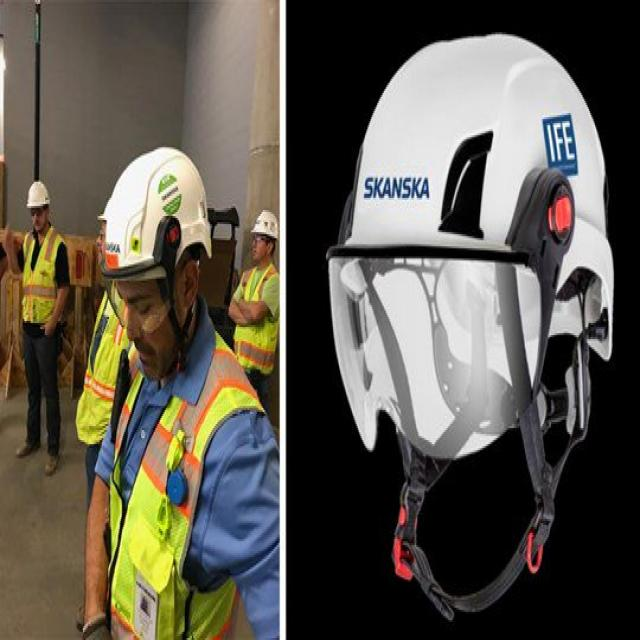Reflective-Jacket: (106, 337, 266, 640), (72, 275, 138, 463), (232, 258, 280, 378), (20, 226, 65, 327)
Safety-Helmet: (327, 28, 624, 299), (96, 139, 216, 287), (250, 206, 280, 242), (25, 176, 52, 214)
